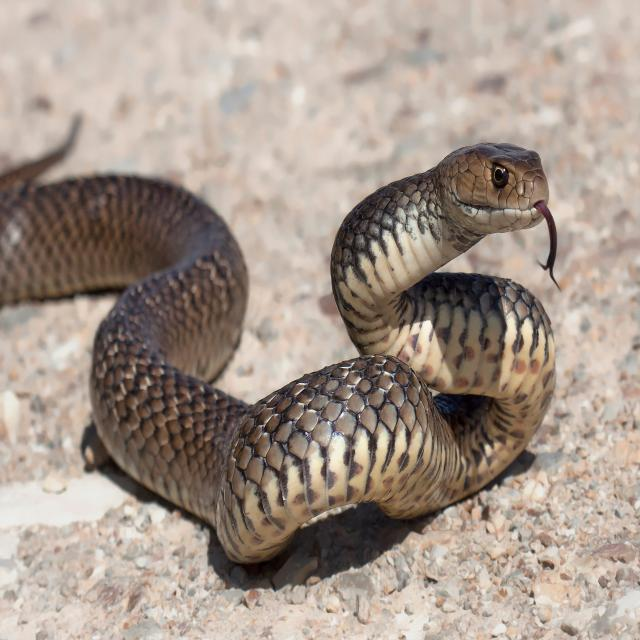Snake: (0, 127, 566, 567)
